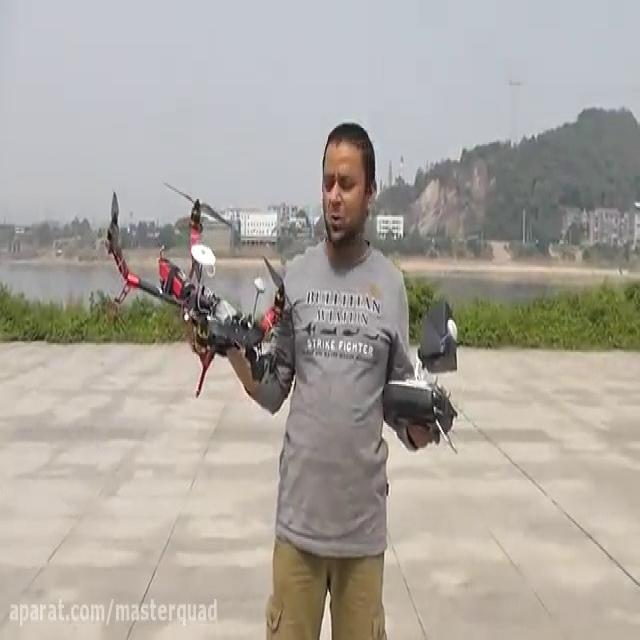drone: (98, 176, 303, 396)
